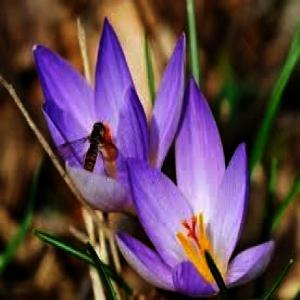Saffron: (113, 82, 276, 300), (33, 17, 189, 219)
